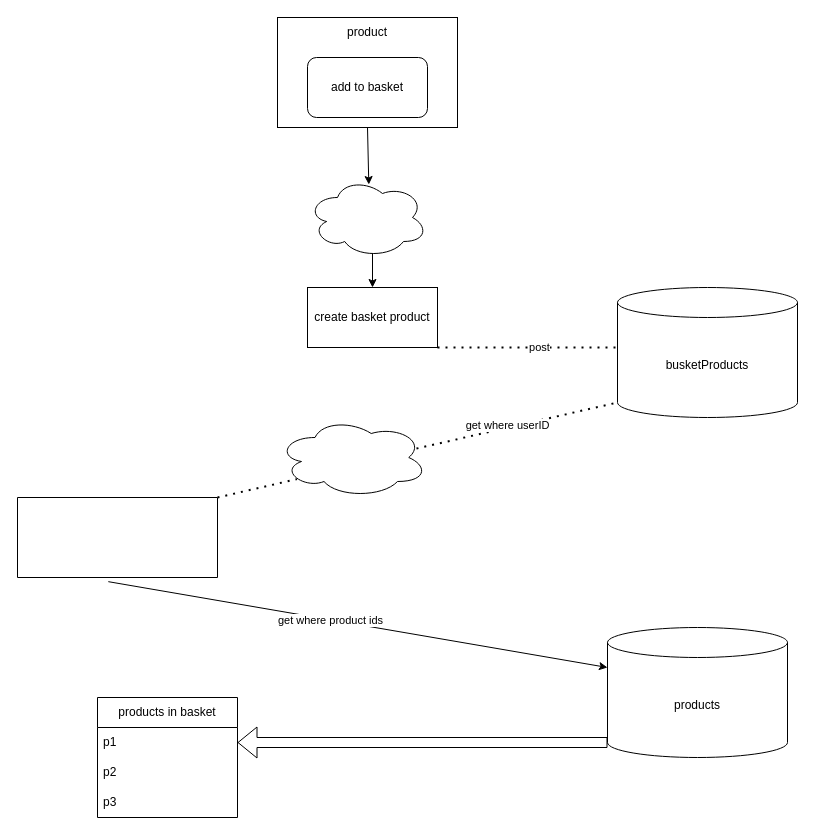
The diagram is 815 pixels wide and 835 high, and some of its shapes have lost their labels. The shapes that lost their labels are listed below. From the top down, each one's centre as x and y in pixels, then its label:
the point at 367,217: prodcutId, userId
the point at 352,457: basketProducts
the point at 117,537: basketProducts.map(bp => { return bp.productId }
